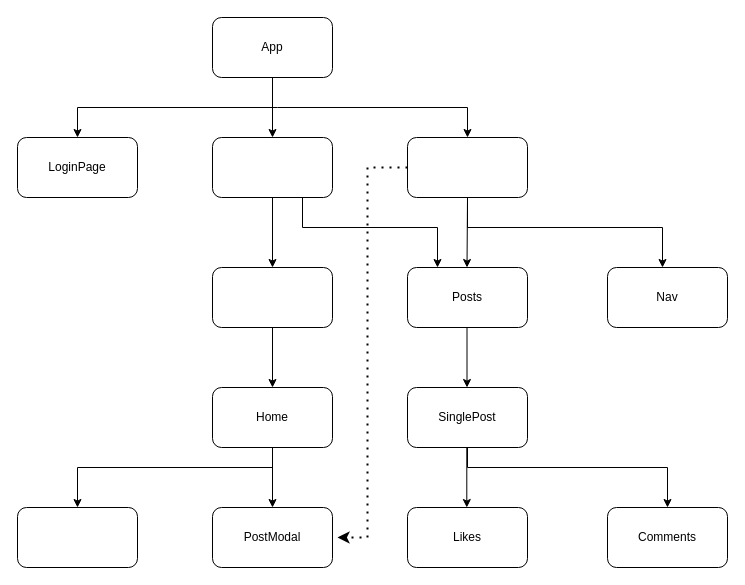
Some shapes in this 745 by 585 pixel diagram are drawn without their labels. Each missing label, with the box of its shape:
Header: (16, 506, 138, 568)
HomePage: (212, 136, 332, 198)
Main: (212, 266, 332, 328)
UserPage: (406, 136, 528, 198)
